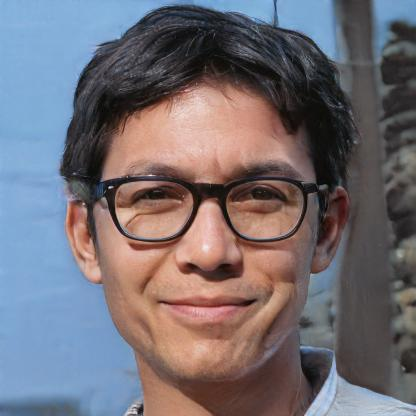glasses: (99, 168, 319, 248)
